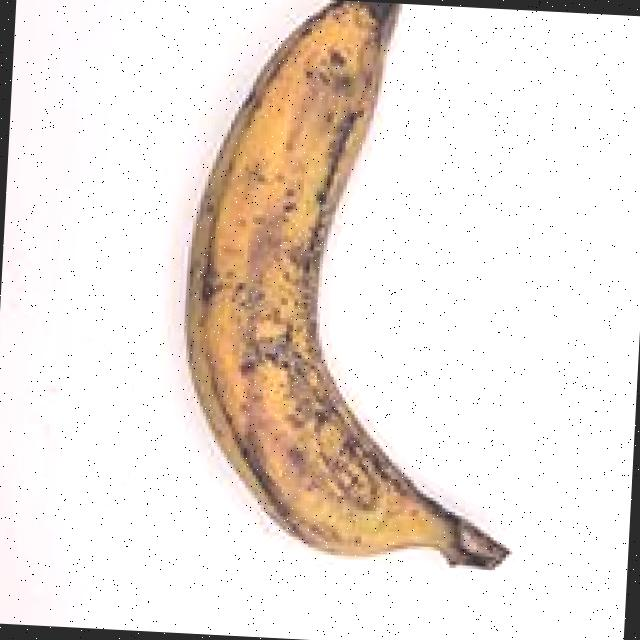Overripe: (125, 0, 547, 591)
